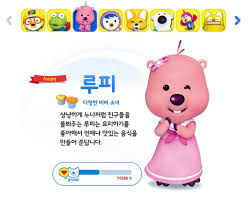Loopy: (141, 38, 211, 192)
